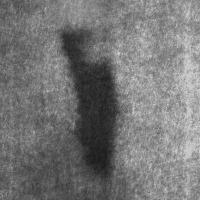patches: (64, 30, 117, 181), (19, 134, 129, 200), (48, 0, 114, 36)
